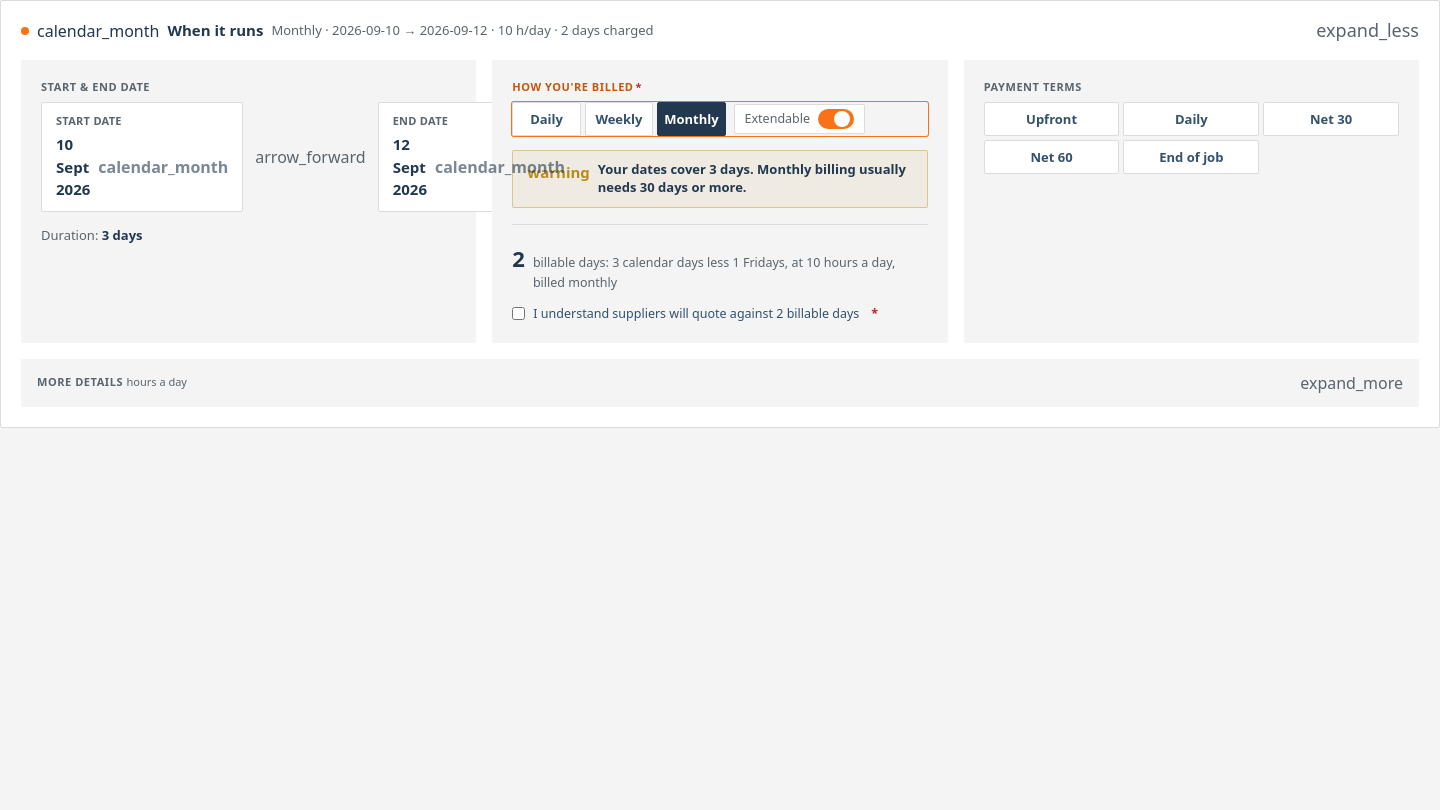
Scenario: with the end date before the start date › refuses a start on the end's own day
What coordinates should you click on to do the following:
click the button with aria-label "START DATE"
I would click on:
 (142, 167)
Its box is left=56, top=133, right=228, bottom=201.
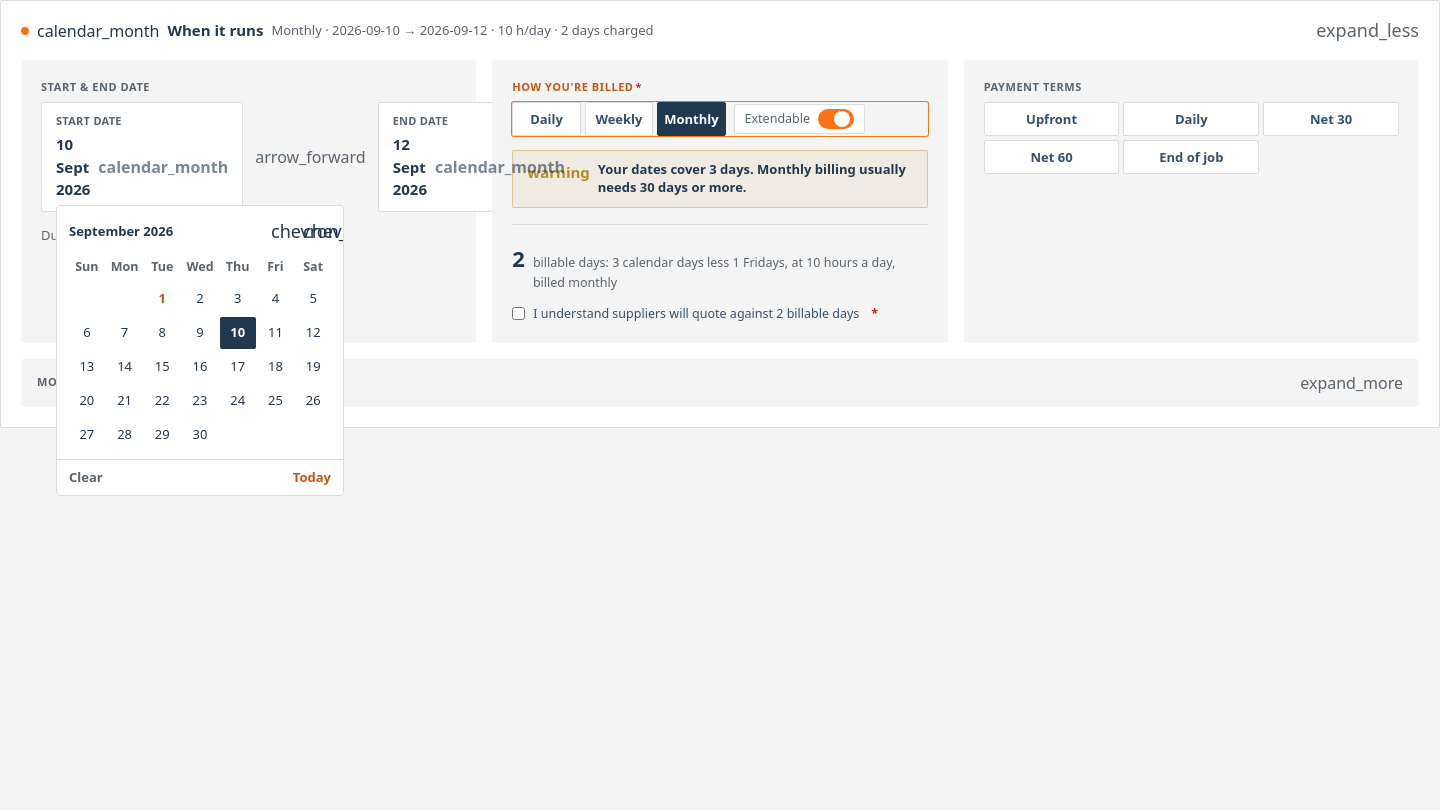
What coordinates should you click on to do the following:
click the button "12"
I would click on:
 (313, 332)
Its box is left=295, top=316, right=331, bottom=348.
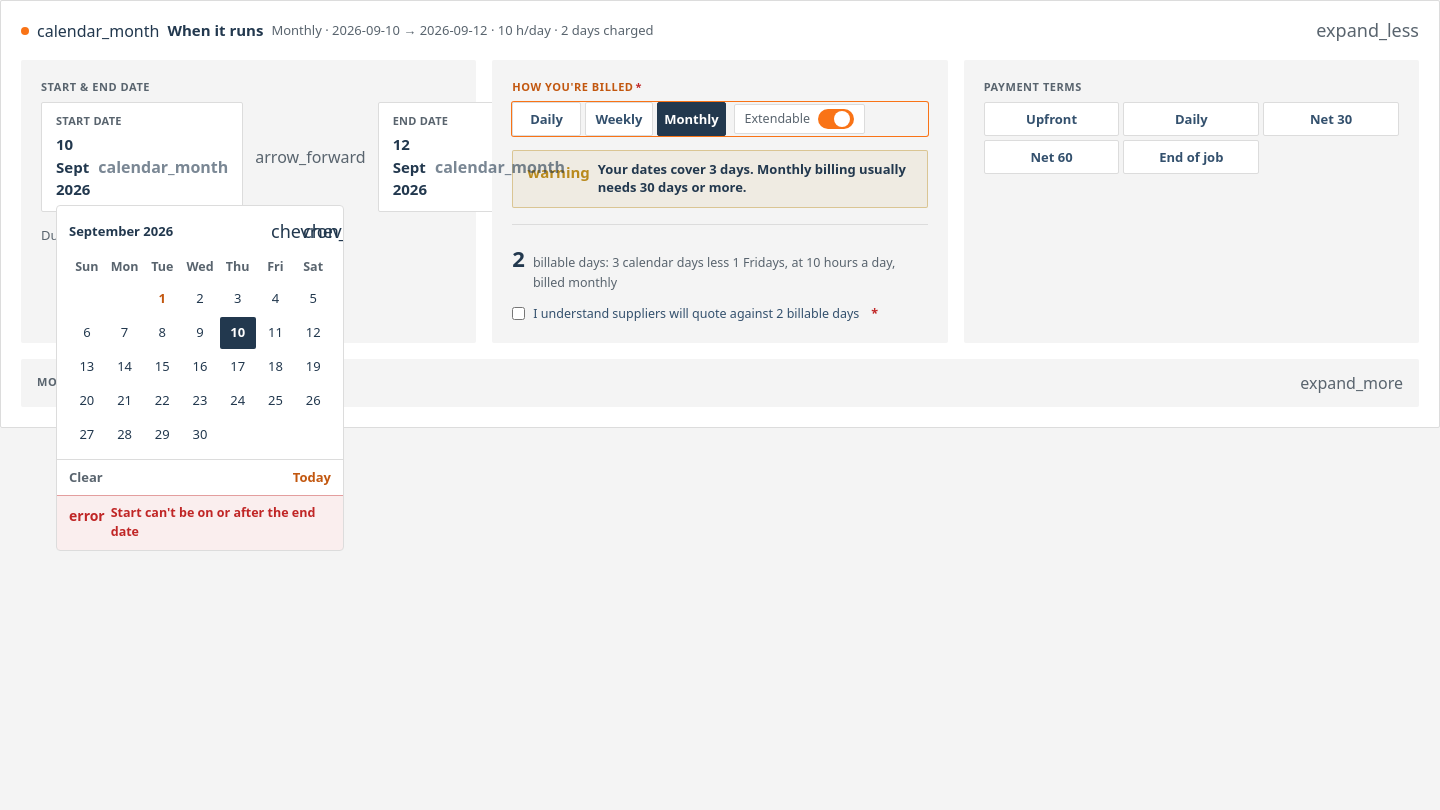
Check: the message shows "Start can't be on or after the end date", box left=111, top=504, right=315, bottom=540
